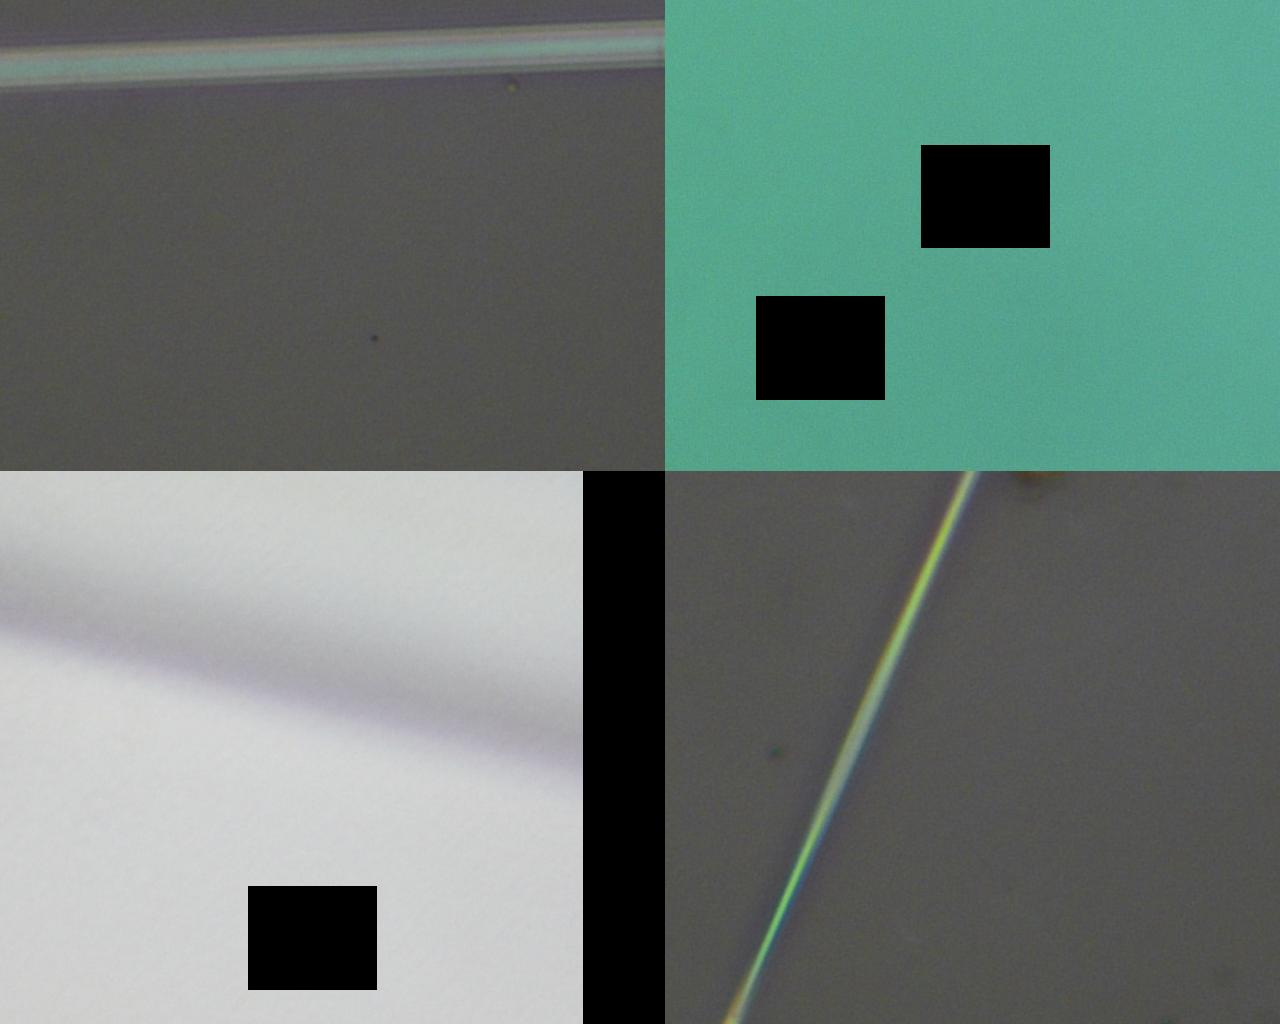fiber: (688, 0, 1198, 491), (550, 491, 1008, 1024), (194, 491, 550, 1024)
